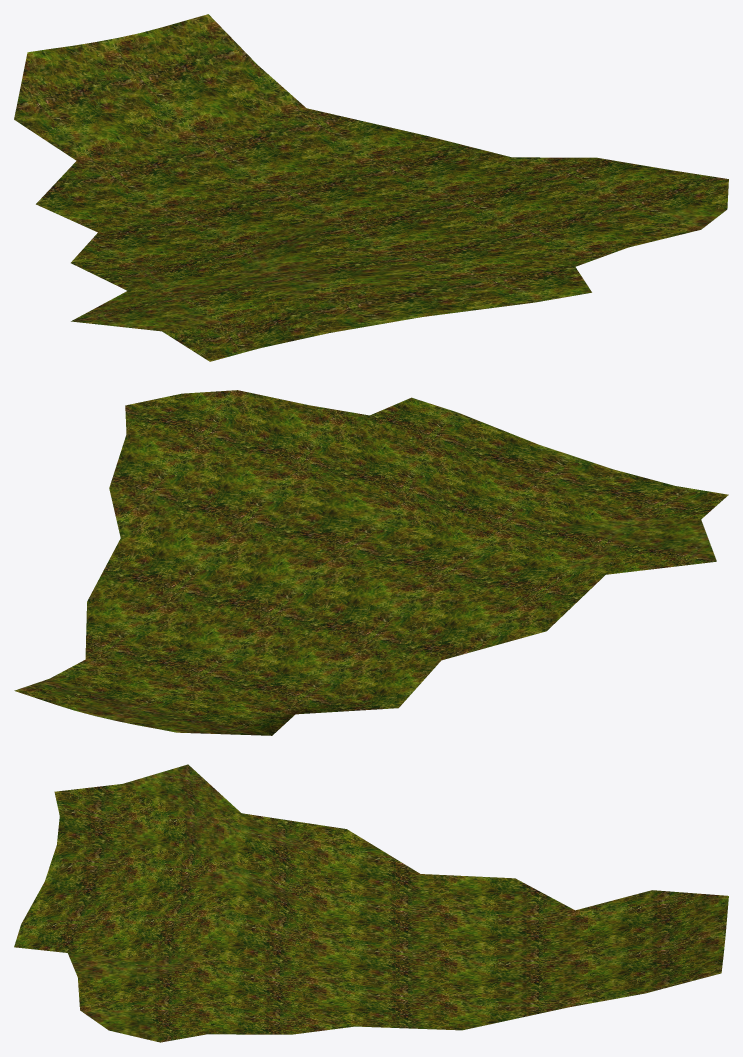
File: TROLLHOLE02_LUKEGROUND01.fbx
3 renders of one model, top to bottom at view 1: azimuth 30°, elevation 25°; view 2: azimuth 150°, elevation 25°; view 3: azimuth 270°, elevation 25°, orthographic. The views are drawn at different scales.
Parts seen in each view (by area): view 1: TROLLHOLE02_LUKEGROUND01; view 2: TROLLHOLE02_LUKEGROUND01; view 3: TROLLHOLE02_LUKEGROUND01.
Part boxes in pixels (x1=…): TROLLHOLE02_LUKEGROUND01: x1=14, y1=14, x2=728, y2=361; TROLLHOLE02_LUKEGROUND01: x1=14, y1=390, x2=728, y2=735; TROLLHOLE02_LUKEGROUND01: x1=14, y1=764, x2=728, y2=1042.
Bounding box in the file's own units: 296355 × 27640 × 324814.
Materials: 1 (1 with a texture image).
